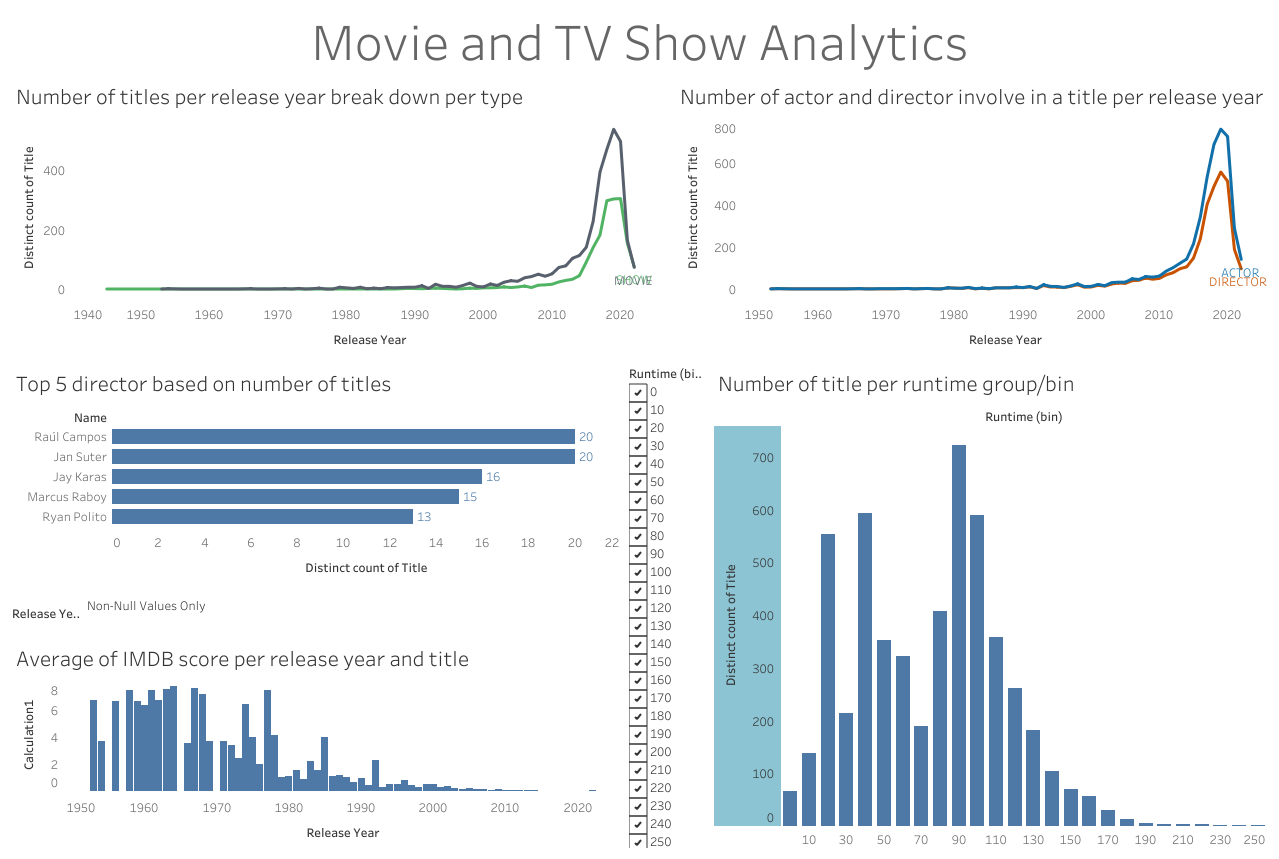

This screenshot's page, from the dashboard's own definition file:
{"tool":"tableau","page":{"name":"Movie and TV Show Analytics","canvas":[1000,1000],"units":"permille","ordinal":0},"visuals":[{"type":"text","box":[6.2,9.3,987.5,74.4]},{"type":"worksheet","title":"Number of titles per release year break down per type","mark":"Line","rows":["title"],"cols":["release_year"],"box":[6.2,83.7,518.8,334.2]},{"type":"worksheet","title":"Number of actor and director involve in a title per release year","mark":"Line","rows":["title"],"cols":["release_year"],"box":[525,83.7,468.7,334.2]},{"type":"worksheet","title":"Top 5 director based on number of titles","mark":"Automatic","rows":["name"],"cols":["title"],"box":[6.2,417.9,482,270.4]},{"type":"filter","title":"Number of title per runtime group/bin","param":"[federated.1pdl1ga05vj1ok15lishi0vjd7fr].[Runtime (bin) Set]","box":[488.3,417.9,66.4,572.8]},{"type":"worksheet","title":"Number of title per runtime group/bin","mark":"Automatic","rows":["title"],"cols":["Runtime (bin)"],"box":[554.7,417.9,439.1,572.8]},{"type":"filter","title":"Average of IMDB score per release year and title","param":"[federated.1pdl1ga05vj1ok15lishi0vjd7fr].[none:release_year:qk]","box":[6.2,688.4,482,48.7]},{"type":"worksheet","title":"Average of IMDB score per release year and title","mark":"Bar","rows":["Calculation_228557744611414019"],"cols":["release_year"],"box":[6.2,737.1,482,253.6]}]}

Visuals, with their boxes on the dashboard's canvas, which has no fixed pixel size, in thousandths of its width and height (x1, y1, x2, y2). These are canvas units, not pixel positions in the 1279x859 screenshot, which may show the page scaled, cropped or inside an application window:
text: l=6, t=9, r=994, b=84
"Number of titles per release year break down per type" worksheet (Line marks): l=6, t=84, r=525, b=418
"Number of actor and director involve in a title per release year" worksheet (Line marks): l=525, t=84, r=994, b=418
"Top 5 director based on number of titles" worksheet: l=6, t=418, r=488, b=688
"Number of title per runtime group/bin" filter: l=488, t=418, r=555, b=991
"Number of title per runtime group/bin" worksheet: l=555, t=418, r=994, b=991
"Average of IMDB score per release year and title" filter: l=6, t=688, r=488, b=737
"Average of IMDB score per release year and title" worksheet (Bar marks): l=6, t=737, r=488, b=991
